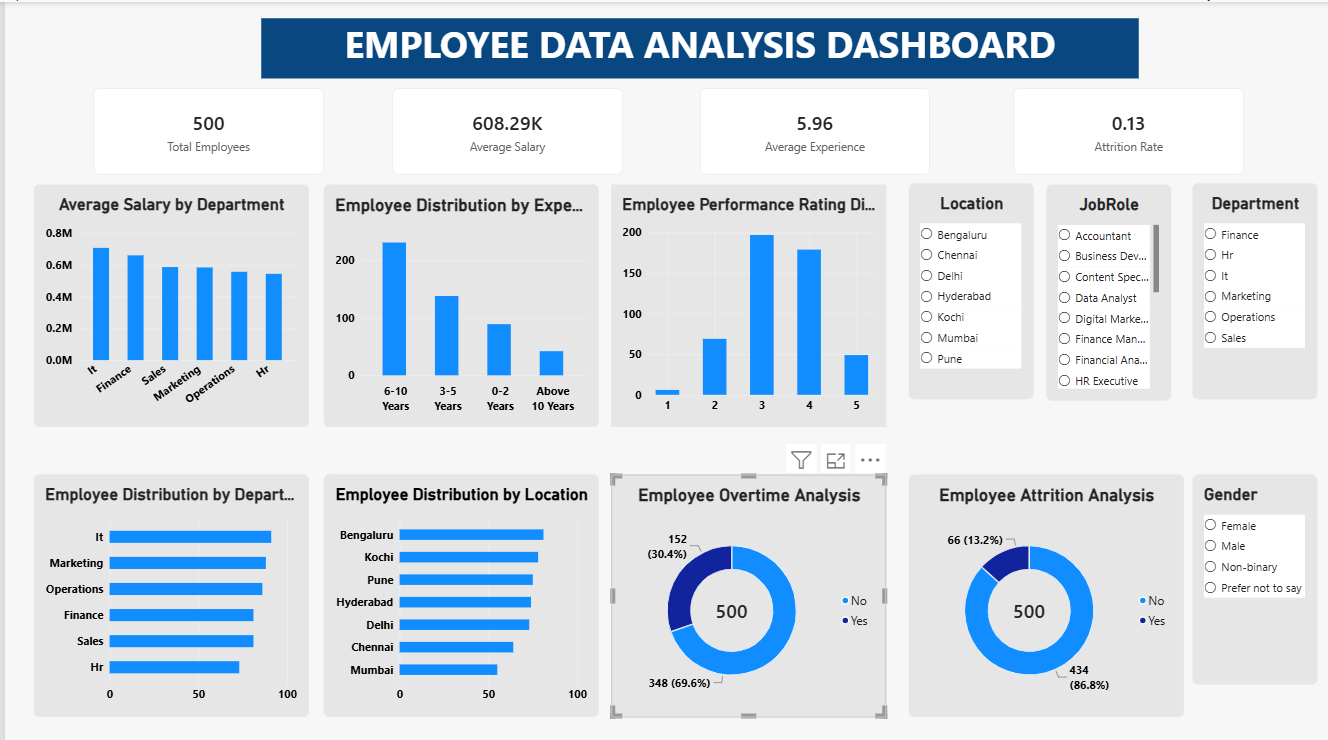

The page's visual inventory and layout, read from the dashboard file:
{"tool":"powerbi","page":{"name":"Page 1","canvas":[1920,1080],"ordinal":0},"visuals":[{"type":"card","fields":{"Values":["ameasure.Total Employees"]},"box":[128.5,124.9,333,124.9],"z":0},{"type":"card","fields":{"Values":["ameasure.Attrition Rate"]},"box":[1460.4,124.9,333,124.9],"z":1},{"type":"card","fields":{"Values":["ameasure.Average Experience"]},"box":[1006.2,124.9,333,124.9],"z":2},{"type":"card","fields":{"Values":["ameasure.Average Salary"]},"box":[561,124.9,333,124.9],"z":3},{"type":"clusteredBarChart","title":"Employee Distribution by Department","fields":{"Category":["Employee.Department"],"Y":["CountNonNull(Employee.EmployeeID)"]},"box":[41.6,684.1,398.1,351.1],"z":4},{"type":"clusteredColumnChart","title":"\tAverage Salary by Department","fields":{"Category":["Employee.Department"],"Y":["Avg(Employee.SalaryINR)"]},"box":[41.6,264.2,398.1,351.1],"z":5},{"type":"clusteredBarChart","title":"\tEmployee Distribution by Location","fields":{"Category":["Employee.Location"],"Y":["CountNonNull(Employee.EmployeeID)"]},"box":[461.5,684.1,398.1,351.1],"z":6},{"type":"clusteredColumnChart","title":"Employee Distribution by Experience","fields":{"Category":["Employee.Experience Group"],"Y":["CountNonNull(Employee.EmployeeID)"]},"box":[461.5,264.2,398.1,351.1],"z":7},{"type":"clusteredColumnChart","title":"\tEmployee Performance Rating Distribution","fields":{"Category":["Employee.PerformanceRating"],"Y":["CountNonNull(Employee.EmployeeID)"]},"box":[877.7,264.2,398.1,351.1],"z":8},{"type":"donutChart","title":"Employee Attrition Analysis","fields":{"Category":["Employee.Attrition"],"Y":["CountNonNull(Employee.EmployeeID)"]},"box":[1308.4,684.1,398.1,351.1],"z":9},{"type":"donutChart","title":"Employee Overtime Analysis","fields":{"Category":["Employee.Overtime"],"Y":["CountNonNull(Employee.EmployeeID)"]},"box":[877.7,684.1,398.1,351.1],"z":10},{"type":"listSlicer","fields":{"Values":["Employee.Department"]},"box":[1719.2,262.4,181,313.1],"z":11},{"type":"listSlicer","fields":{"Values":["Employee.Gender"]},"box":[1719.2,684.1,181,304],"z":12},{"type":"listSlicer","fields":{"Values":["Employee.JobRole"]},"box":[1507.4,264.2,181,313.1],"z":13},{"type":"listSlicer","fields":{"Values":["Employee.Location"]},"box":[1308.4,262.4,181,313.1],"z":14},{"type":"textbox","box":[371,23.5,1270.4,86.9],"z":15}]}

Visuals, with their boxes in screenshot pixels (x1, y1, x2, y2), scaled from the page's 1920x1080 canvas onto the 1328x740 screenshot:
card - ameasure.Total Employees: 89:86:319:171
card - ameasure.Attrition Rate: 1010:86:1240:171
card - ameasure.Average Experience: 696:86:926:171
card - ameasure.Average Salary: 388:86:618:171
"Employee Distribution by Department" clusteredBarChart: 29:469:304:709
"	Average Salary by Department" clusteredColumnChart: 29:181:304:422
"	Employee Distribution by Location" clusteredBarChart: 319:469:595:709
"Employee Distribution by Experience" clusteredColumnChart: 319:181:595:422
"	Employee Performance Rating Distribution" clusteredColumnChart: 607:181:882:422
"Employee Attrition Analysis" donutChart: 905:469:1180:709
"Employee Overtime Analysis" donutChart: 607:469:882:709
listSlicer - Employee.Department: 1189:180:1314:394
listSlicer - Employee.Gender: 1189:469:1314:677
listSlicer - Employee.JobRole: 1043:181:1168:396
listSlicer - Employee.Location: 905:180:1030:394
textbox: 257:16:1135:76
